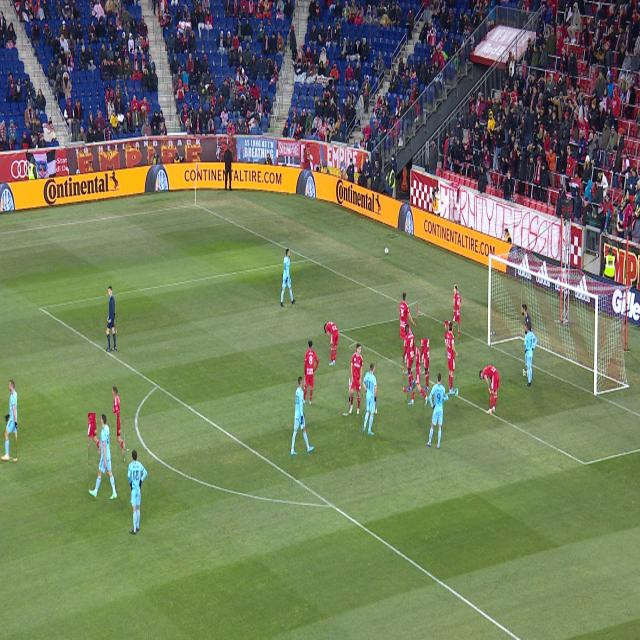goalkeeper: (522, 303, 532, 332), (524, 370, 527, 377)
player: (89, 413, 117, 500), (290, 376, 314, 455), (426, 372, 449, 449), (128, 450, 147, 535), (105, 385, 125, 461), (407, 340, 429, 406), (0, 380, 17, 461), (362, 362, 377, 436), (303, 340, 319, 406), (479, 365, 499, 415), (445, 321, 458, 395), (280, 248, 296, 308), (350, 342, 363, 415), (524, 322, 538, 387), (403, 325, 416, 392), (400, 293, 417, 339), (324, 320, 338, 366), (452, 283, 461, 346), (412, 348, 415, 364), (12, 458, 17, 462), (526, 332, 526, 333)
referee: (107, 286, 116, 352)
